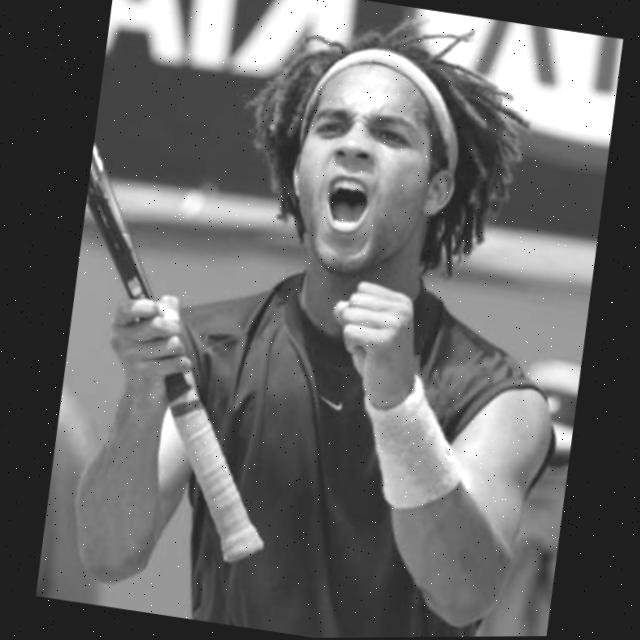face: (271, 41, 468, 309)
